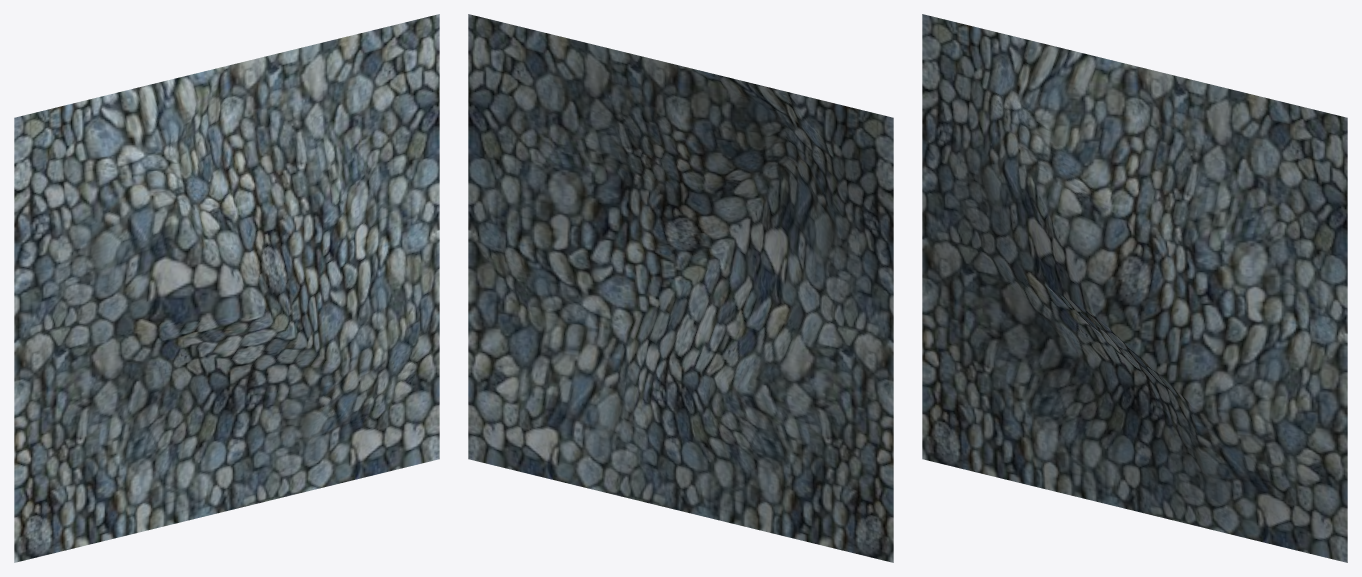
File: ground_2.obj
3 renders of one model, left to right at view 1: azimuth 30°, elevation 25°; view 2: azimuth 150°, elevation 25°; view 3: azimuth 330°, elevation 25°, orthographic.
Visible parts, largest first — view 1: Cube; view 2: Cube; view 3: Cube.
Boxes of the visible parts, left/top/right/bottom form: Cube: left=14, top=14, right=439, bottom=562; Cube: left=468, top=14, right=893, bottom=562; Cube: left=922, top=14, right=1347, bottom=562.
Bounding box in the file's own units: 2 × 2 × 0.3367.
